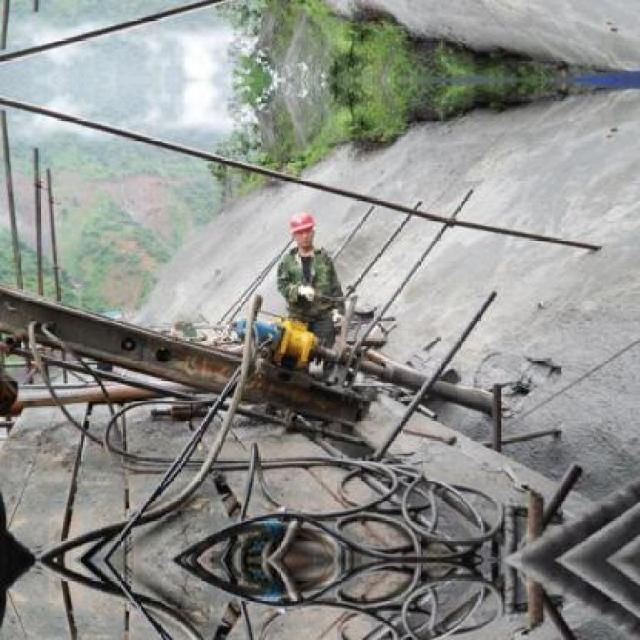helmet: (285, 211, 316, 232)
